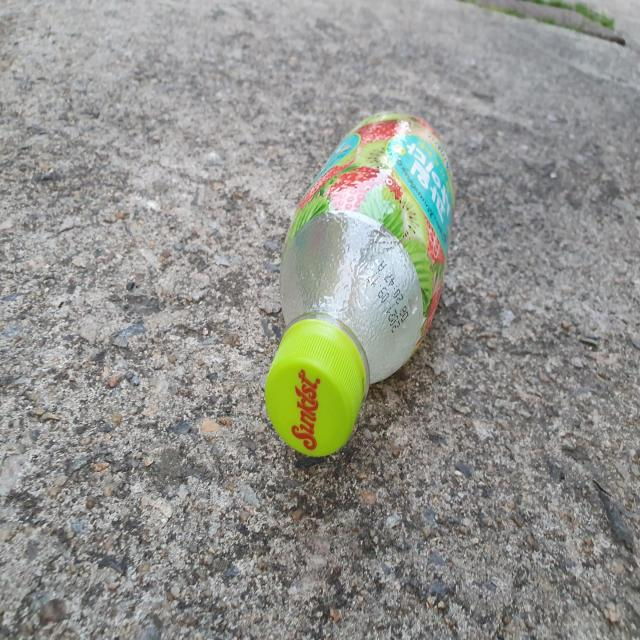plastic: (265, 113, 455, 457)
